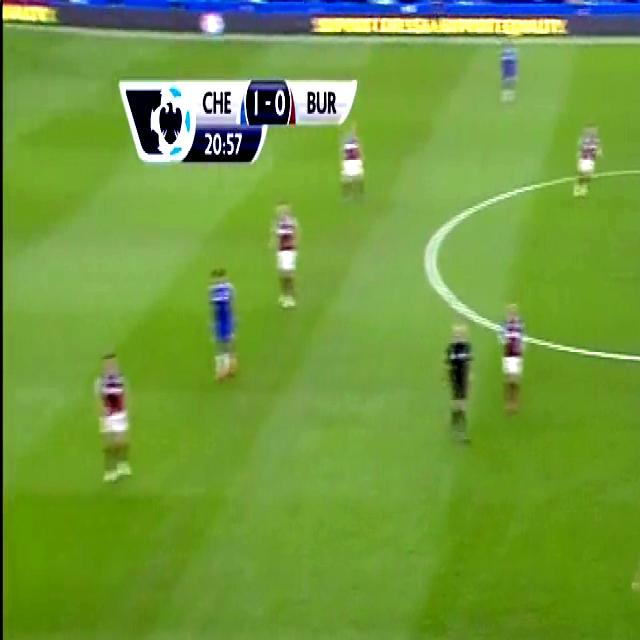referee: (436, 312, 484, 452)
soccer-player: (87, 338, 139, 482), (199, 261, 249, 387), (264, 193, 308, 332), (495, 298, 529, 425), (566, 118, 610, 205), (490, 14, 523, 118), (336, 123, 370, 220), (630, 510, 640, 640)
